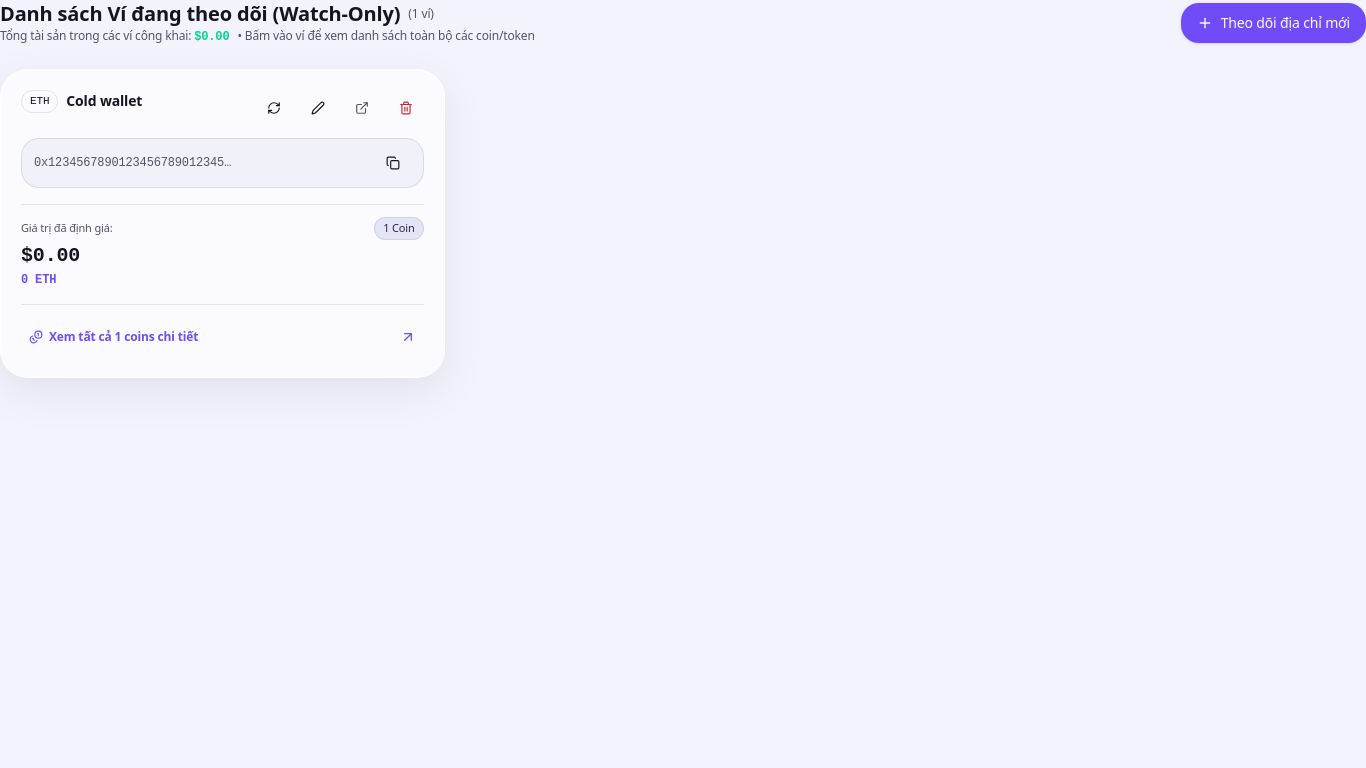
Test case: ViewOnlyWallets › opens wallet details in an accessible shadcn dialog
Step 1. Click the button with aria-label "Xem chi tiết ví Cold wallet" → click(82, 336), box [21,316,424,356]
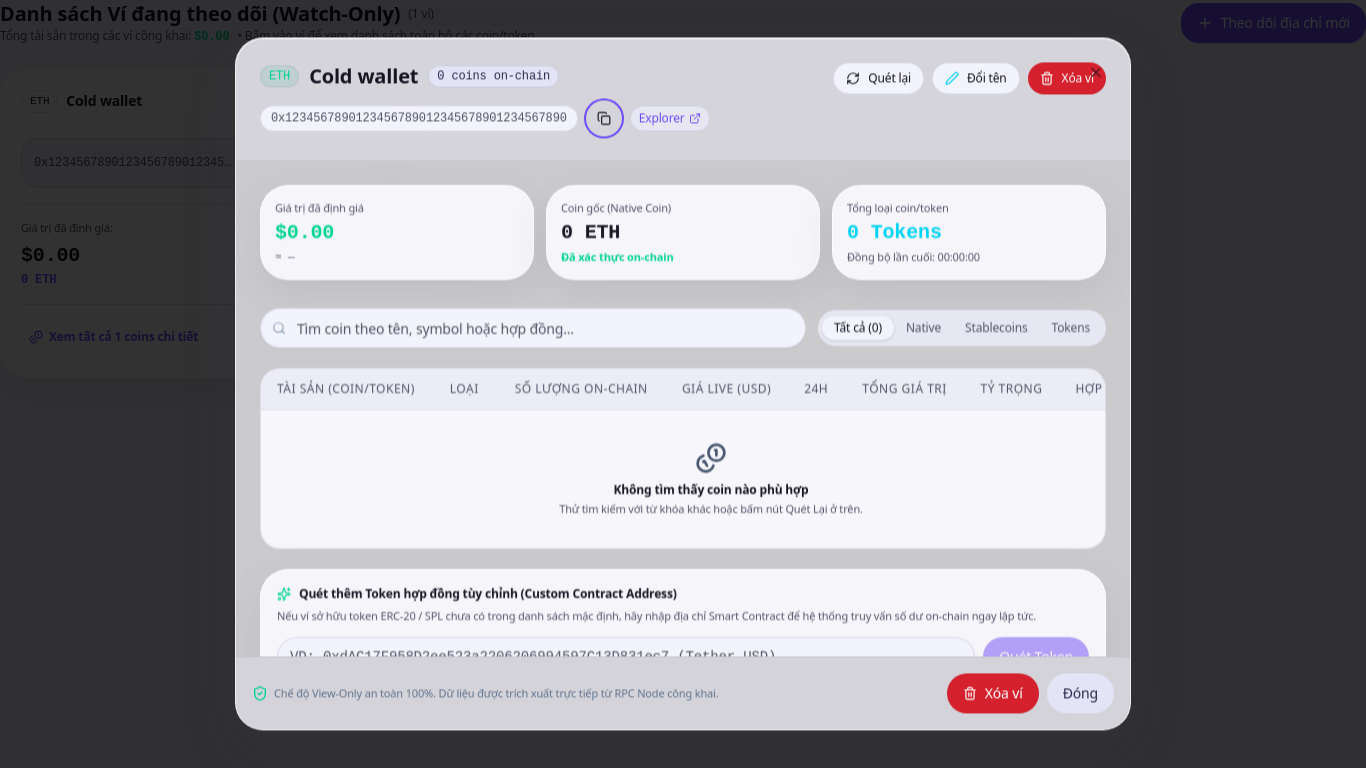
Check: the dialog "Cold wallet" is shown, box [235,37,1131,731]
